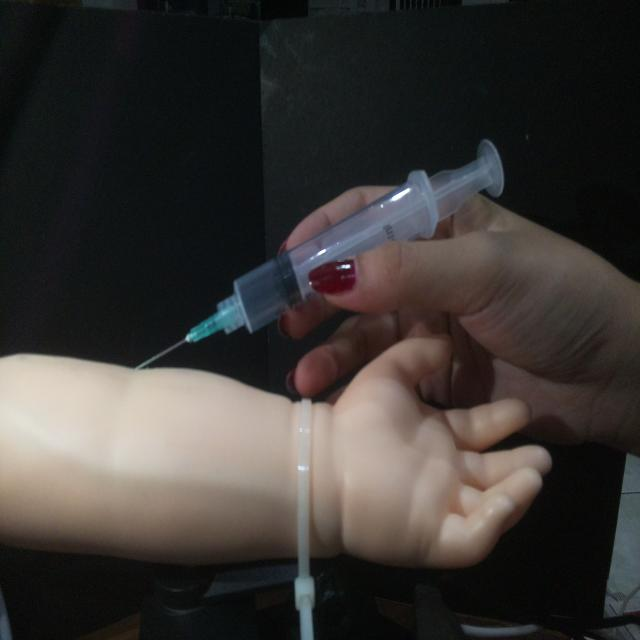22deg: (131, 133, 509, 372)
